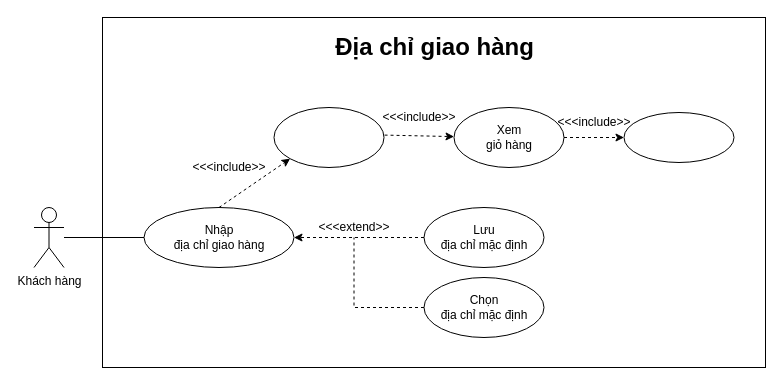
This 783x385 diagram has some shape labels left out. The centre of each missing label's shape, as x and y in pixels:
"Nhấn thanh toán" belongs at point 328,137.
"Đăng nhập tài khoản" belongs at point 678,137.
